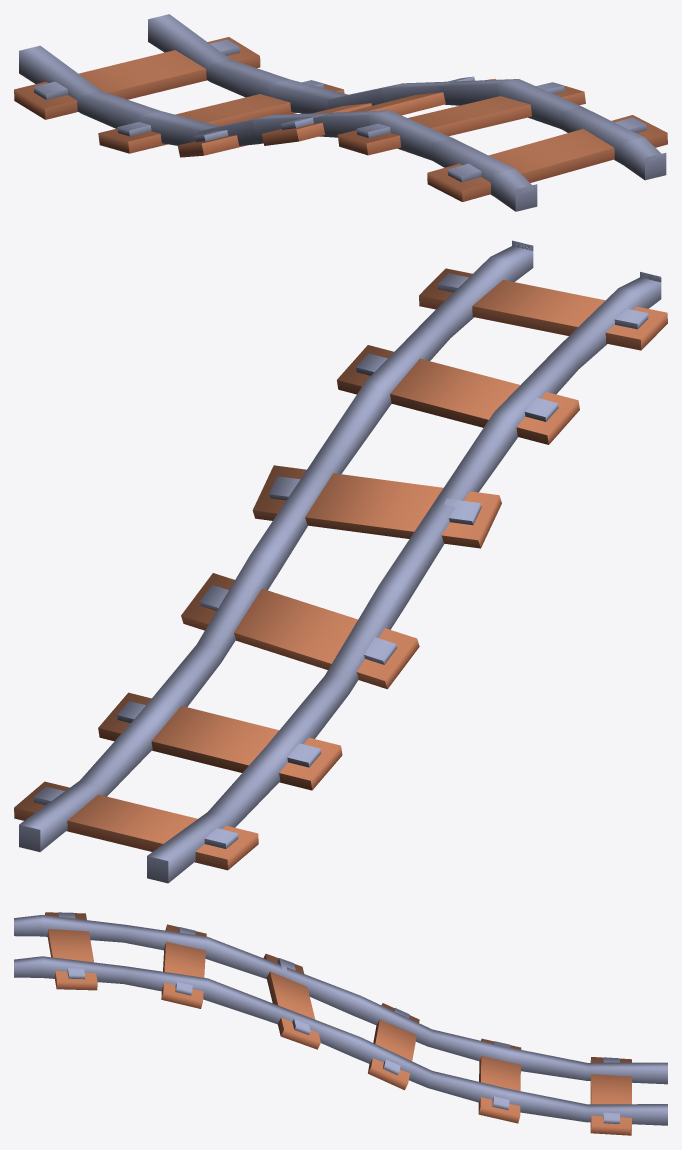
Rendered from railroad-damaged-straight-hill-complete.glb.
3 views of the same model, one above another, from view 1: azimuth 30°, elevation 25°; view 2: azimuth 150°, elevation 25°; view 3: azimuth 270°, elevation 25° (orthographic). The views are drawn at different scales.
Parts seen in each view (by area): view 1: railroad-damaged-straight-hill-complete; view 2: railroad-damaged-straight-hill-complete; view 3: railroad-damaged-straight-hill-complete.
Boxes of the visible parts, <box> form: railroad-damaged-straight-hill-complete: <box>14,14,667,211</box>; railroad-damaged-straight-hill-complete: <box>14,240,667,883</box>; railroad-damaged-straight-hill-complete: <box>14,912,667,1135</box>.
Bounding box in the file's own units: 1.02 × 1.1 × 4.
